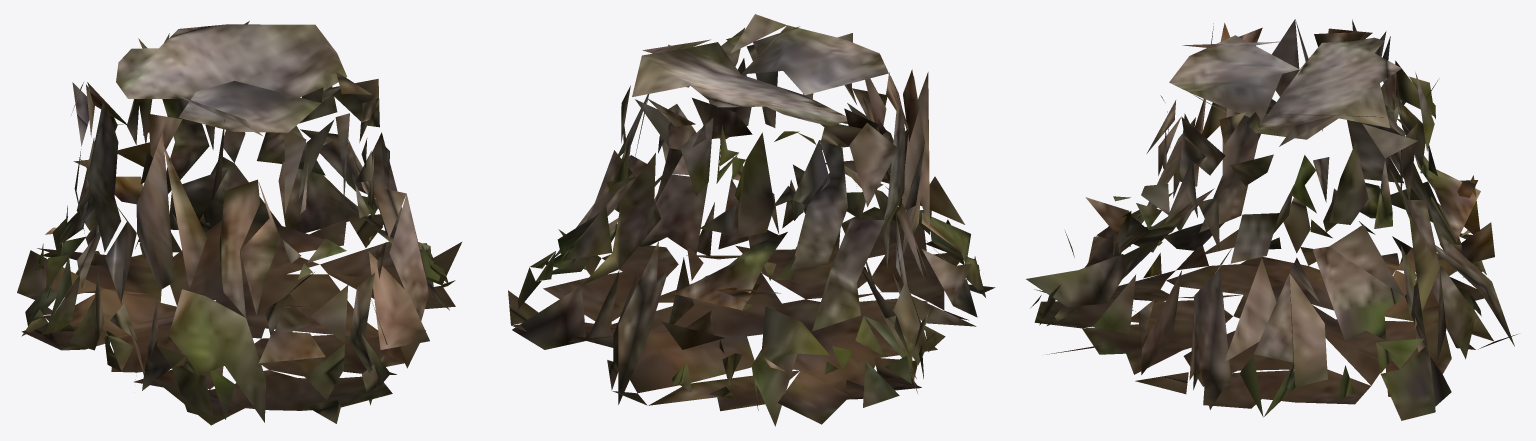
The model's file is wald_baumstumpf_lo.glb.
The picture shows the model from 3 angles, left to right: view 1: azimuth 30°, elevation 25°; view 2: azimuth 150°, elevation 25°; view 3: azimuth 270°, elevation 25°; orthographic projection. The views are drawn at different scales.
Parts seen in each view (by area): view 1: Prop; view 2: Prop; view 3: Prop.
Boxes of the visible parts, x1,y1,x2,y2 form: Prop: [17, 21, 461, 425]; Prop: [508, 14, 995, 426]; Prop: [1026, 19, 1517, 420].
Size of the model in its own units: 1.63 by 1.1 by 1.75.
Materials: 1 (1 with a texture image).
